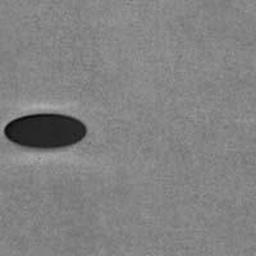Punching: (4, 114, 88, 150)
